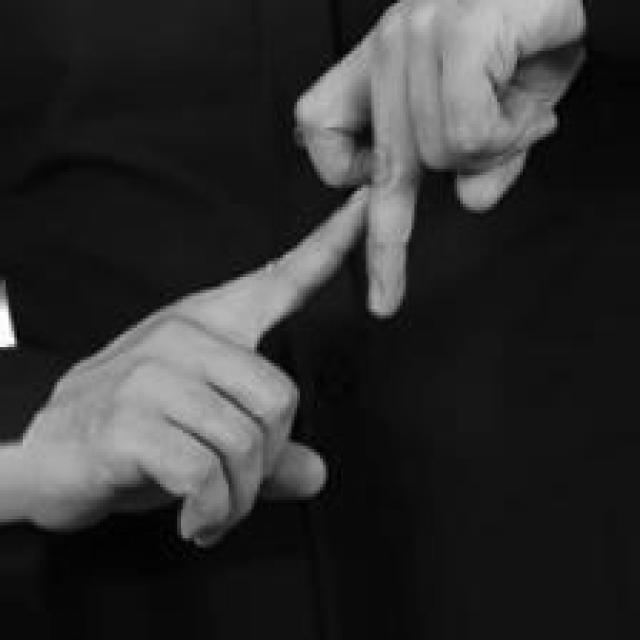R: (0, 0, 582, 560)
